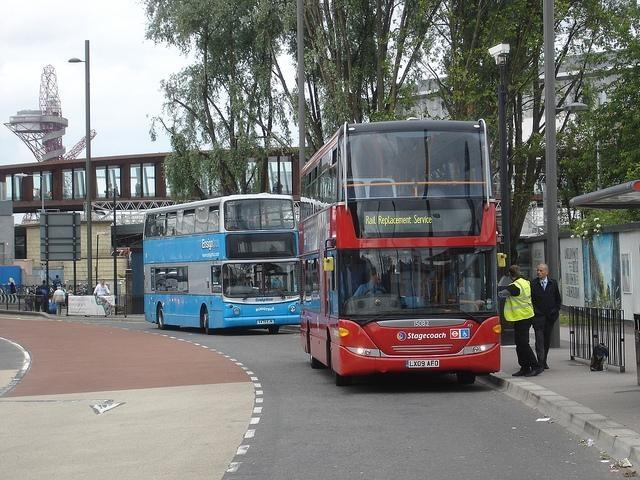bus: (300, 122, 507, 395), (147, 194, 300, 331)
